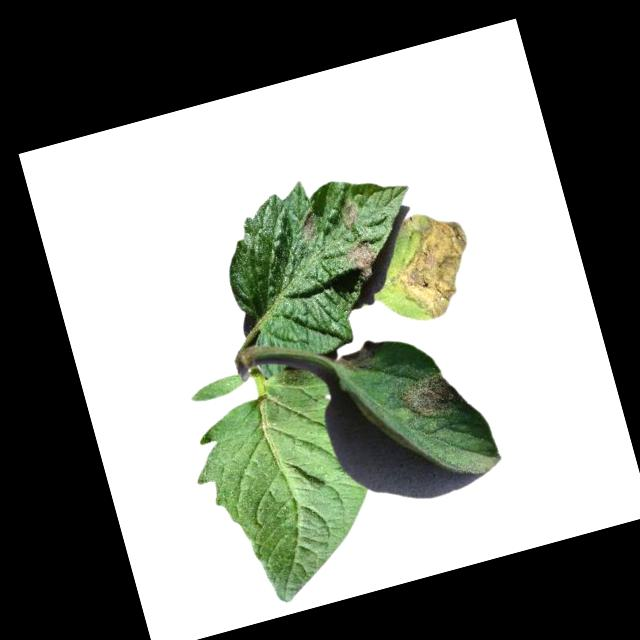Late_blight: (374, 202, 485, 328), (394, 370, 463, 428), (334, 337, 387, 377), (344, 238, 382, 283), (296, 211, 322, 244), (337, 199, 363, 230)
